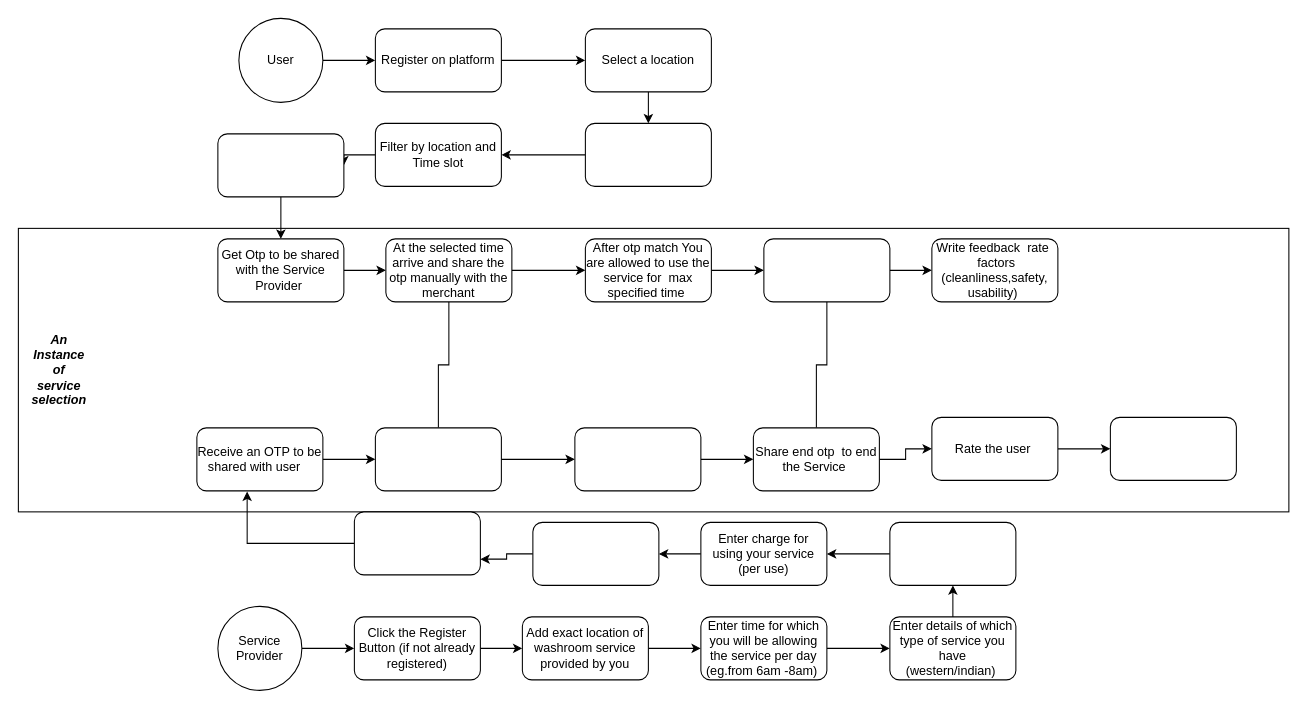
Some shapes in this 1307 by 709 pixel diagram are drawn without their labels. Here are the shapes that lost their labels. From the top down, the centre of each, then its label:
the point at 280,165: Book a particular service
the point at 647,154: View Washroom Services
the point at 826,270: After Using share the end otp
the point at 437,459: When user arrives share your otp to him and receive his otp
the point at 637,459: Allow him to use your service after otp match
the point at 1172,448: If everything is fine then receive payment within 7 days
the point at 416,543: After a actual verifier visits and confirms then your service will be online
the point at 595,553: Send application for final verification
the point at 952,553: Enter any other relevent information
